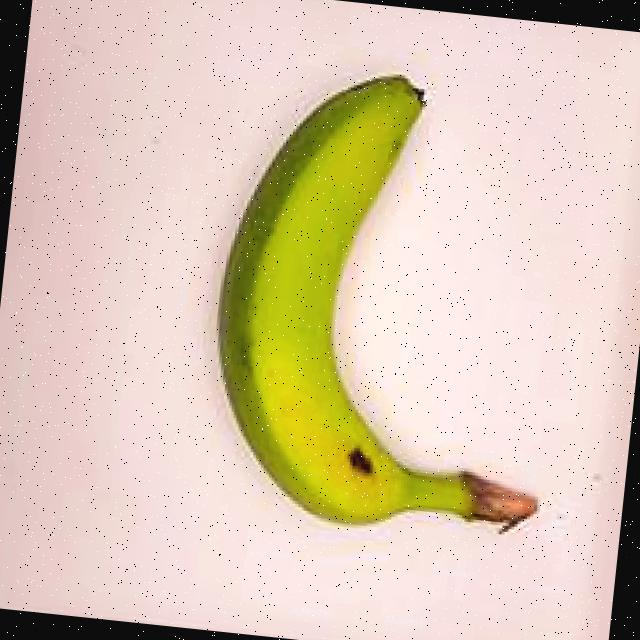Unripe: (144, 7, 594, 586)
